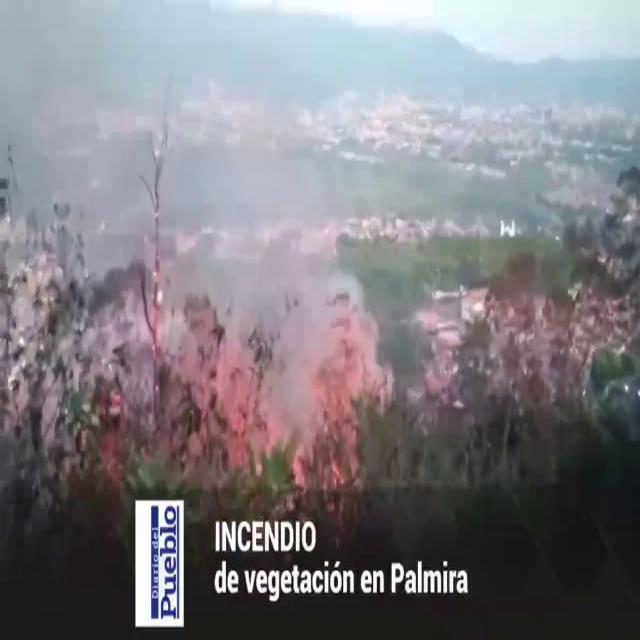Smoke: (0, 2, 380, 423)
